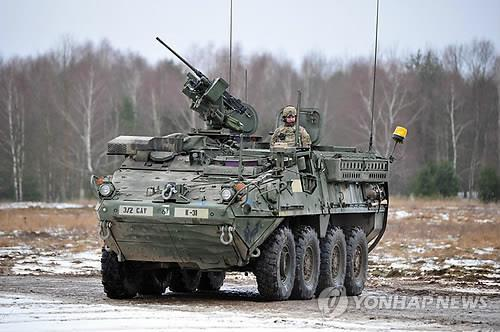MIL_IFV: (91, 67, 409, 303)
